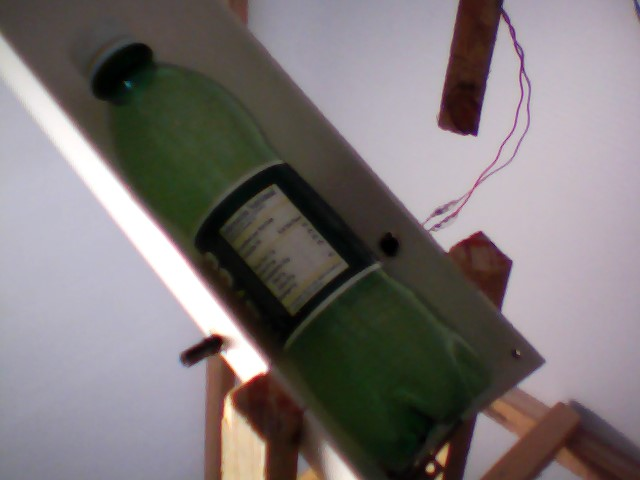plastico: (63, 9, 496, 480)
